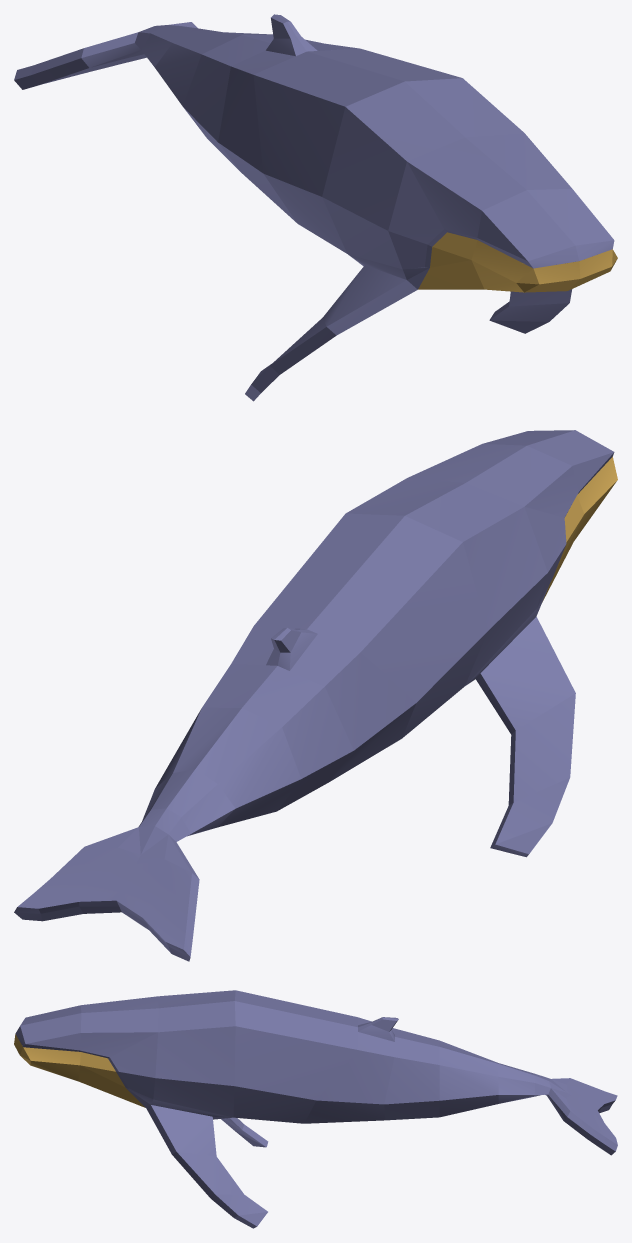
File: nage-whale.glb
3 views of the same model, one above another, from view 1: azimuth 30°, elevation 25°; view 2: azimuth 150°, elevation 25°; view 3: azimuth 270°, elevation 25° (orthographic). The views are drawn at different scales.
Parts seen in each view (by area): view 1: Cylinder, Cylinder_1; view 2: Cylinder, Cylinder_1; view 3: Cylinder, Cylinder_1.
Boxes of the visible parts, <box> form: Cylinder: <box>14,14,614,401</box>; Cylinder_1: <box>418,232,617,292</box>; Cylinder: <box>14,430,614,961</box>; Cylinder_1: <box>542,457,617,602</box>; Cylinder: <box>15,990,617,1228</box>; Cylinder_1: <box>14,1034,145,1107</box>.
Size of the model in its own units: 5.01 by 4.71 by 13.77.
